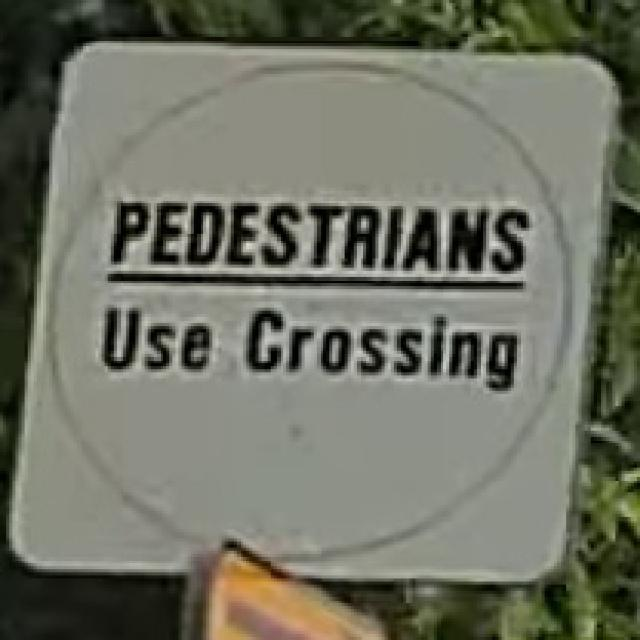pedestriancrossing_sign: (3, 33, 622, 584)
